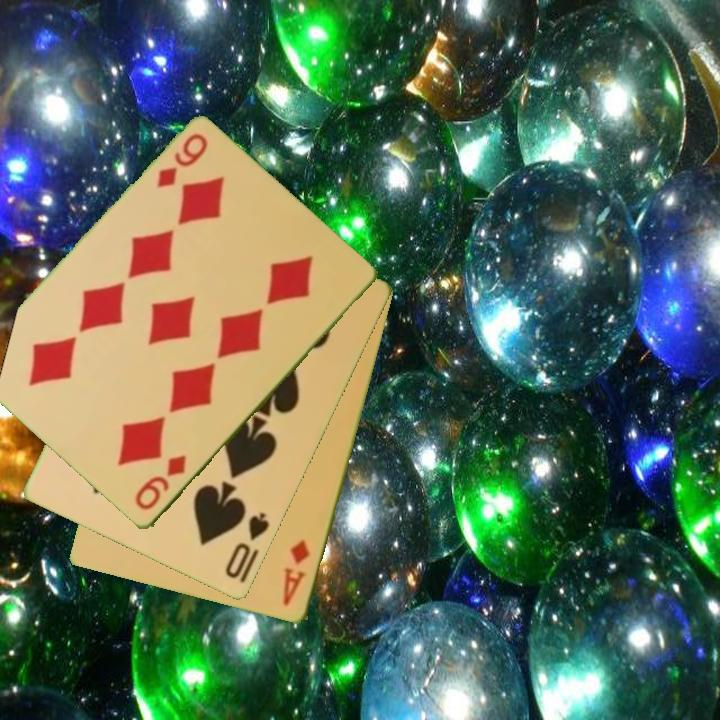10s: (221, 509, 273, 582)
9d: (131, 451, 190, 514), (153, 130, 211, 192)
Ad: (280, 537, 313, 610)
